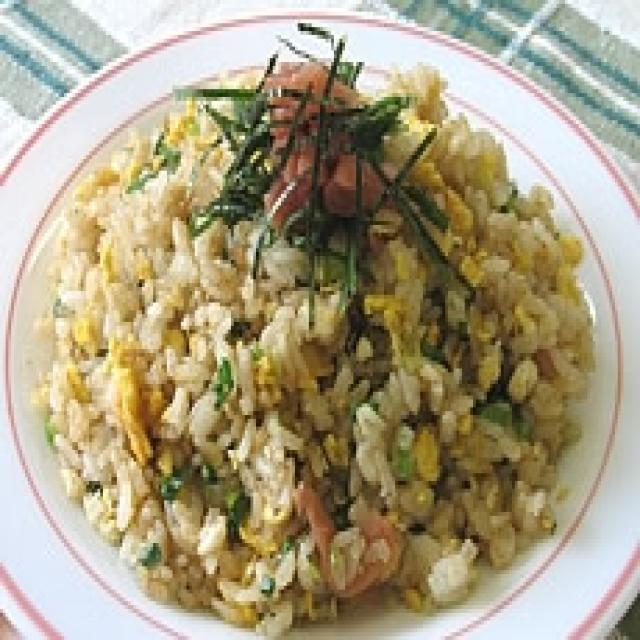米饭主食: (0, 4, 640, 640)
